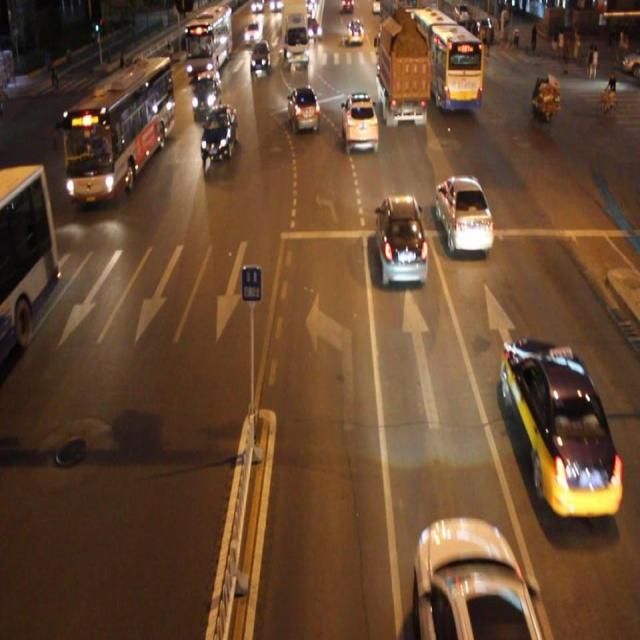bus: (378, 22, 426, 127)
car: (501, 335, 621, 518), (411, 518, 539, 640), (375, 193, 428, 286), (434, 175, 491, 254), (340, 92, 378, 150), (200, 104, 237, 160), (286, 84, 319, 134), (193, 70, 222, 120)
van: (62, 56, 172, 199), (0, 166, 60, 365), (411, 8, 480, 110)
